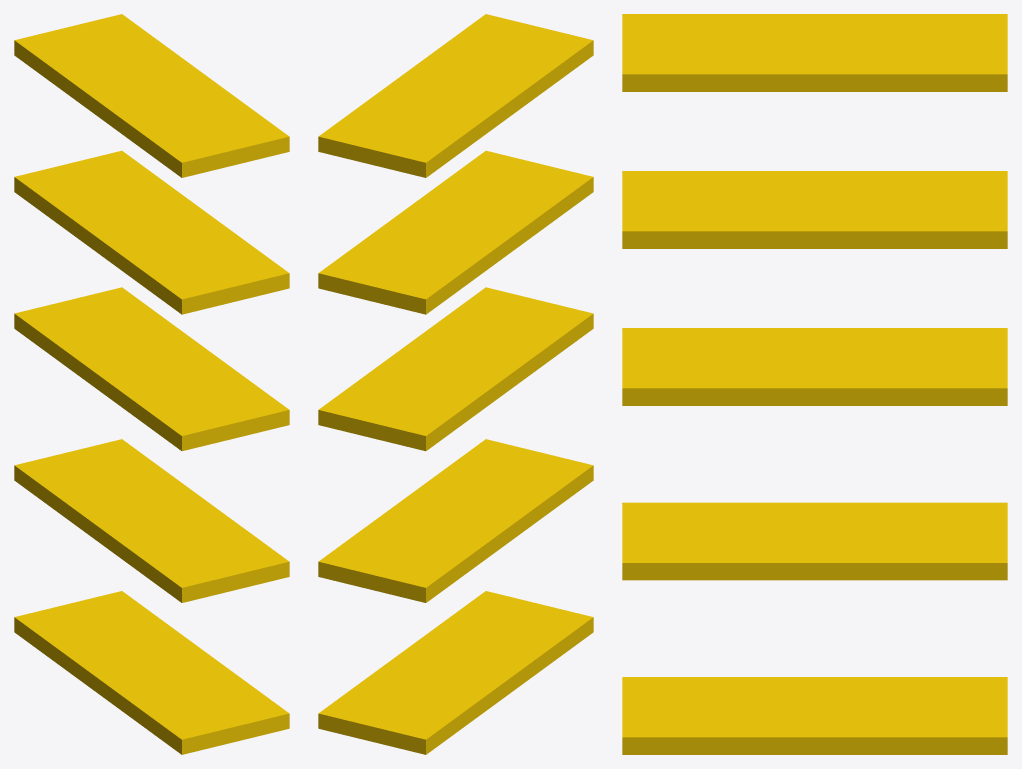
File: sculpture14_shelf.fbx
3 renders of one model, left to right at view 1: azimuth 30°, elevation 25°; view 2: azimuth 150°, elevation 25°; view 3: azimuth 270°, elevation 25°, orthographic. The views are drawn at different scales.
Visible parts, largest first — view 1: yellow Mesh (1); view 2: yellow Mesh (1); view 3: yellow Mesh (1).
Boxes of the visible parts, left/top/right/bottom form: yellow Mesh (1): left=14, top=14, right=289, bottom=754; yellow Mesh (1): left=318, top=14, right=593, bottom=754; yellow Mesh (1): left=622, top=14, right=1007, bottom=754.
Bounding box in the file's own units: 1.86 × 9.75 × 5.
